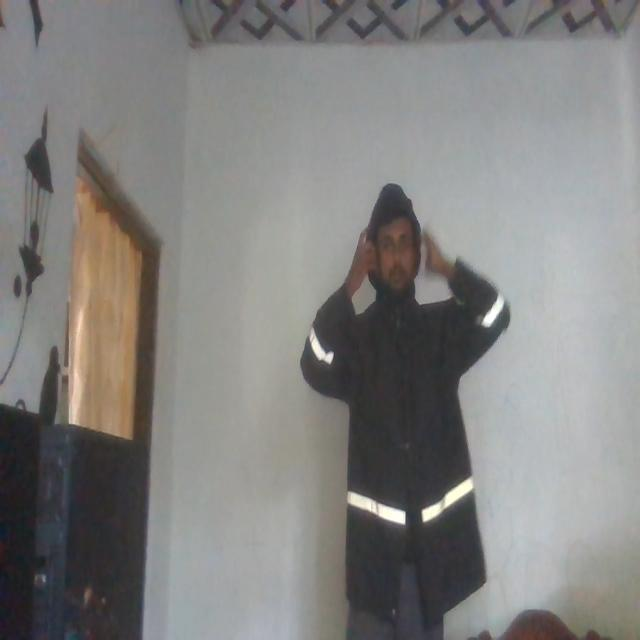Jacket_Wearer: (304, 274, 506, 602)
Person: (303, 170, 503, 640)
